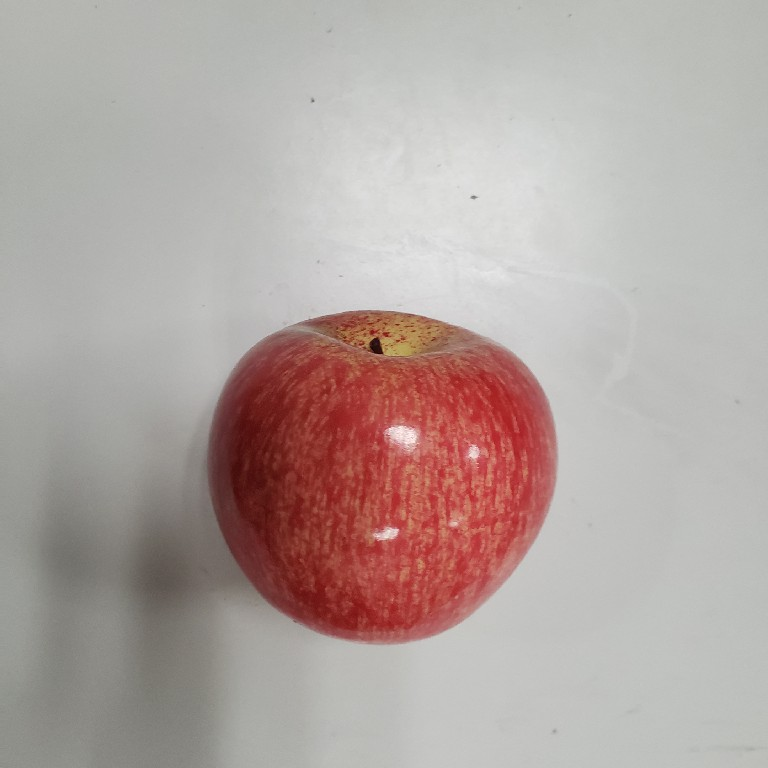fruit_apple: (194, 300, 565, 653)
